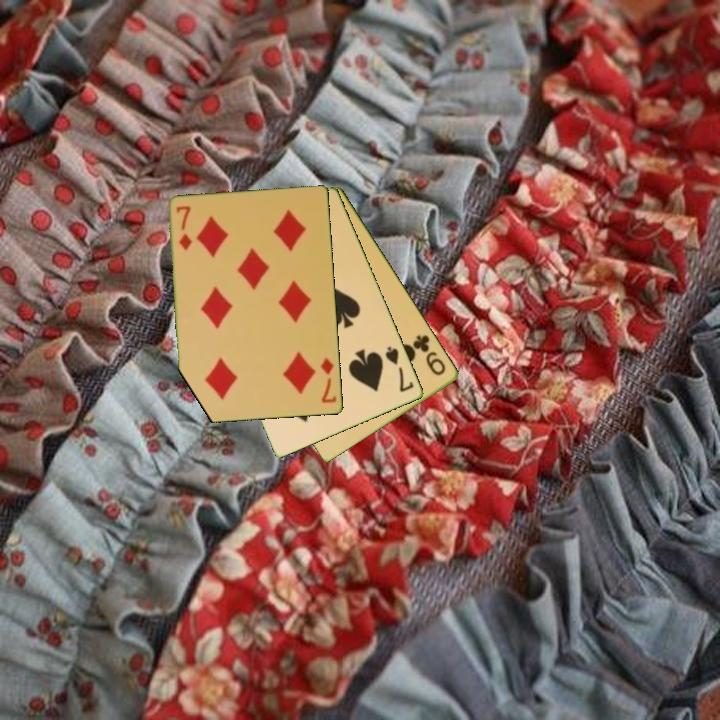7d: (318, 355, 340, 406), (173, 202, 195, 253)
7s: (382, 343, 417, 395)
9c: (409, 331, 449, 379)
